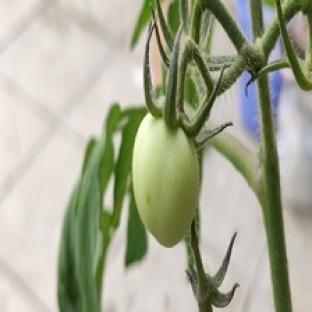Tomato: (133, 115, 199, 246)
